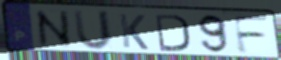9: (196, 14, 230, 55)
D: (154, 13, 192, 53)
F: (231, 15, 271, 55)
K: (117, 12, 150, 51)
N: (33, 9, 75, 50)
U: (72, 8, 113, 52)
